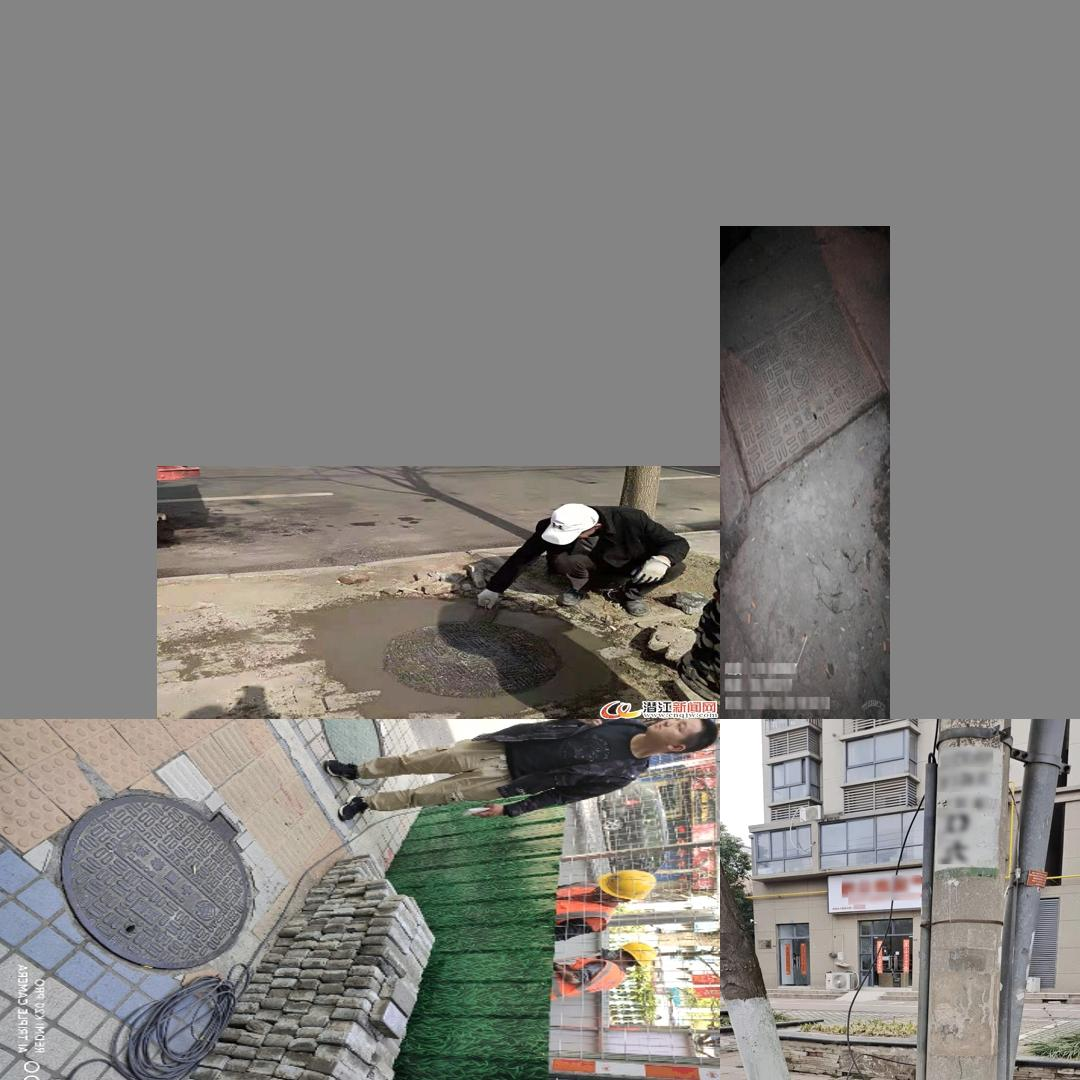good: (311, 596, 623, 713), (720, 288, 890, 499), (63, 792, 253, 972)
